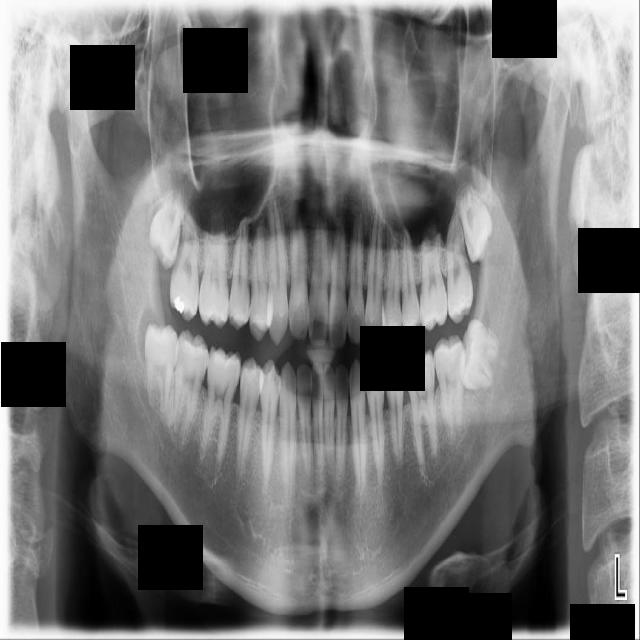3M ESPE Implant: (147, 169, 184, 271)
52: (169, 264, 199, 323)
73: (612, 563, 618, 582)
BioHorizons Implant: (444, 209, 474, 324)
BioLife Implant: (457, 191, 498, 264)
Biomet 3i Implant: (455, 317, 502, 394)
Blue Sky Bio Implant: (431, 333, 471, 427)
Caries: (167, 198, 204, 323)
Implant: (168, 329, 211, 433)
Keystone Dental Implant: (143, 322, 179, 412)
